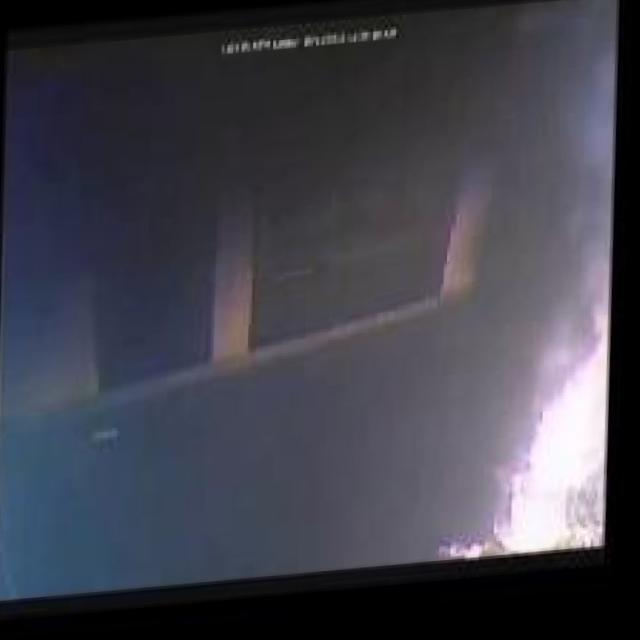fire: (442, 261, 618, 574)
